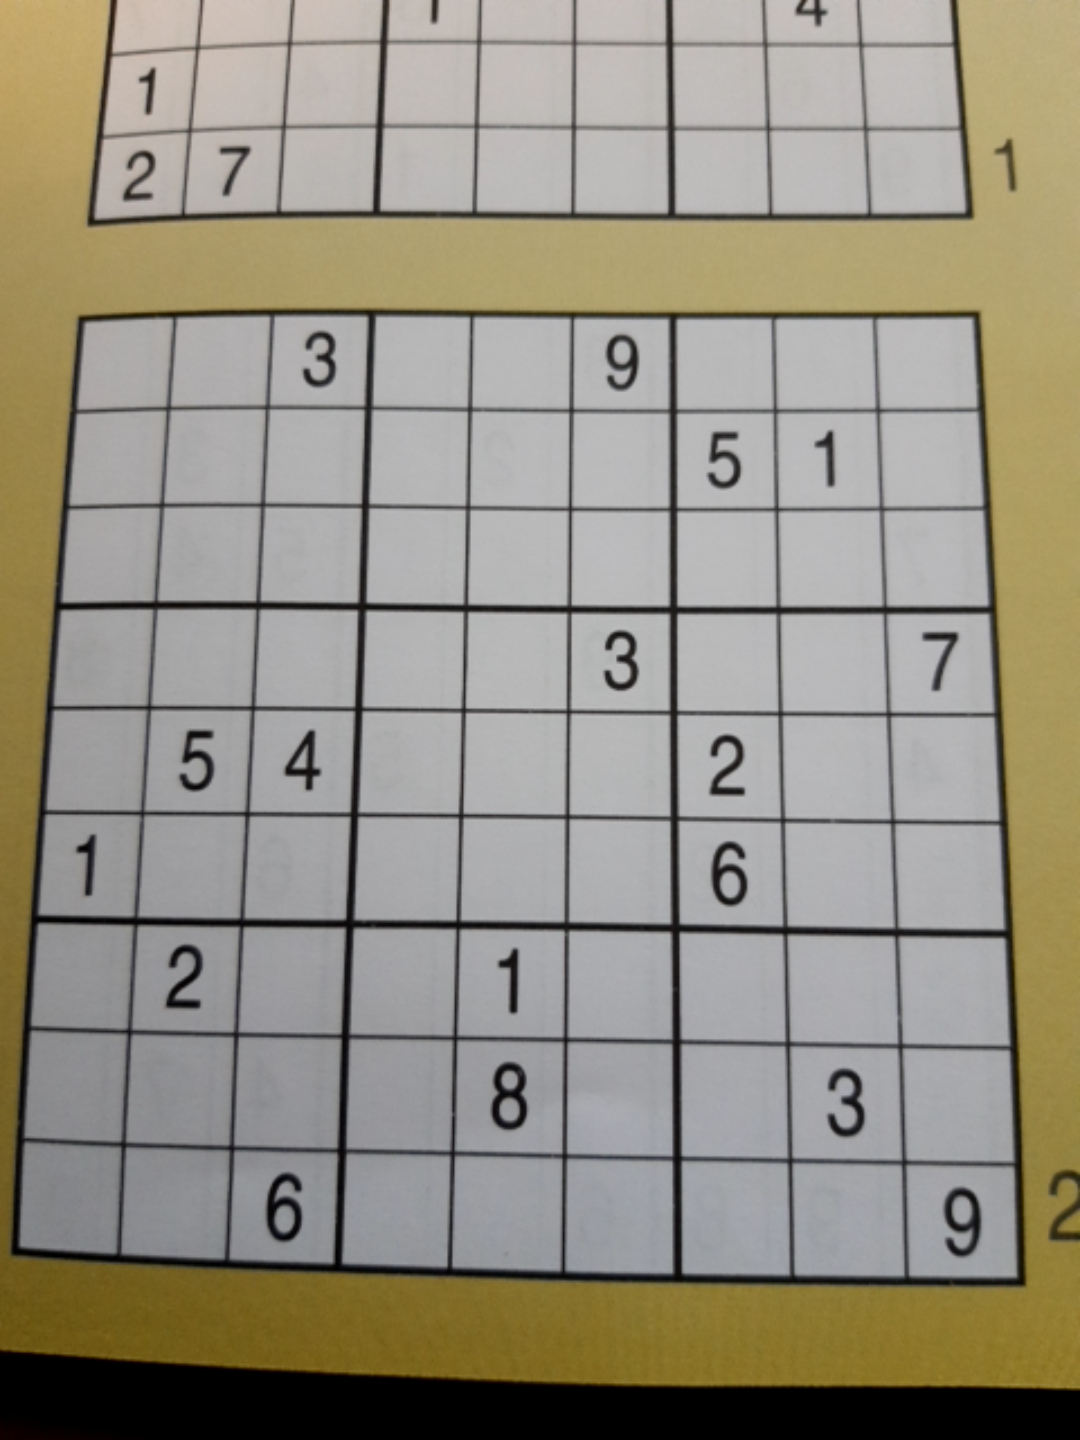sudoku: (12, 303, 1027, 1297)
